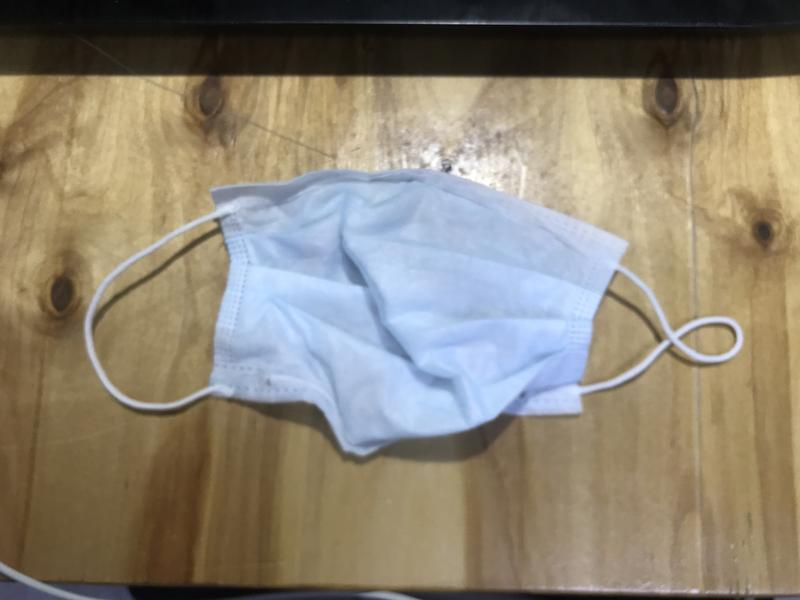medical_mask: (84, 169, 741, 455)
